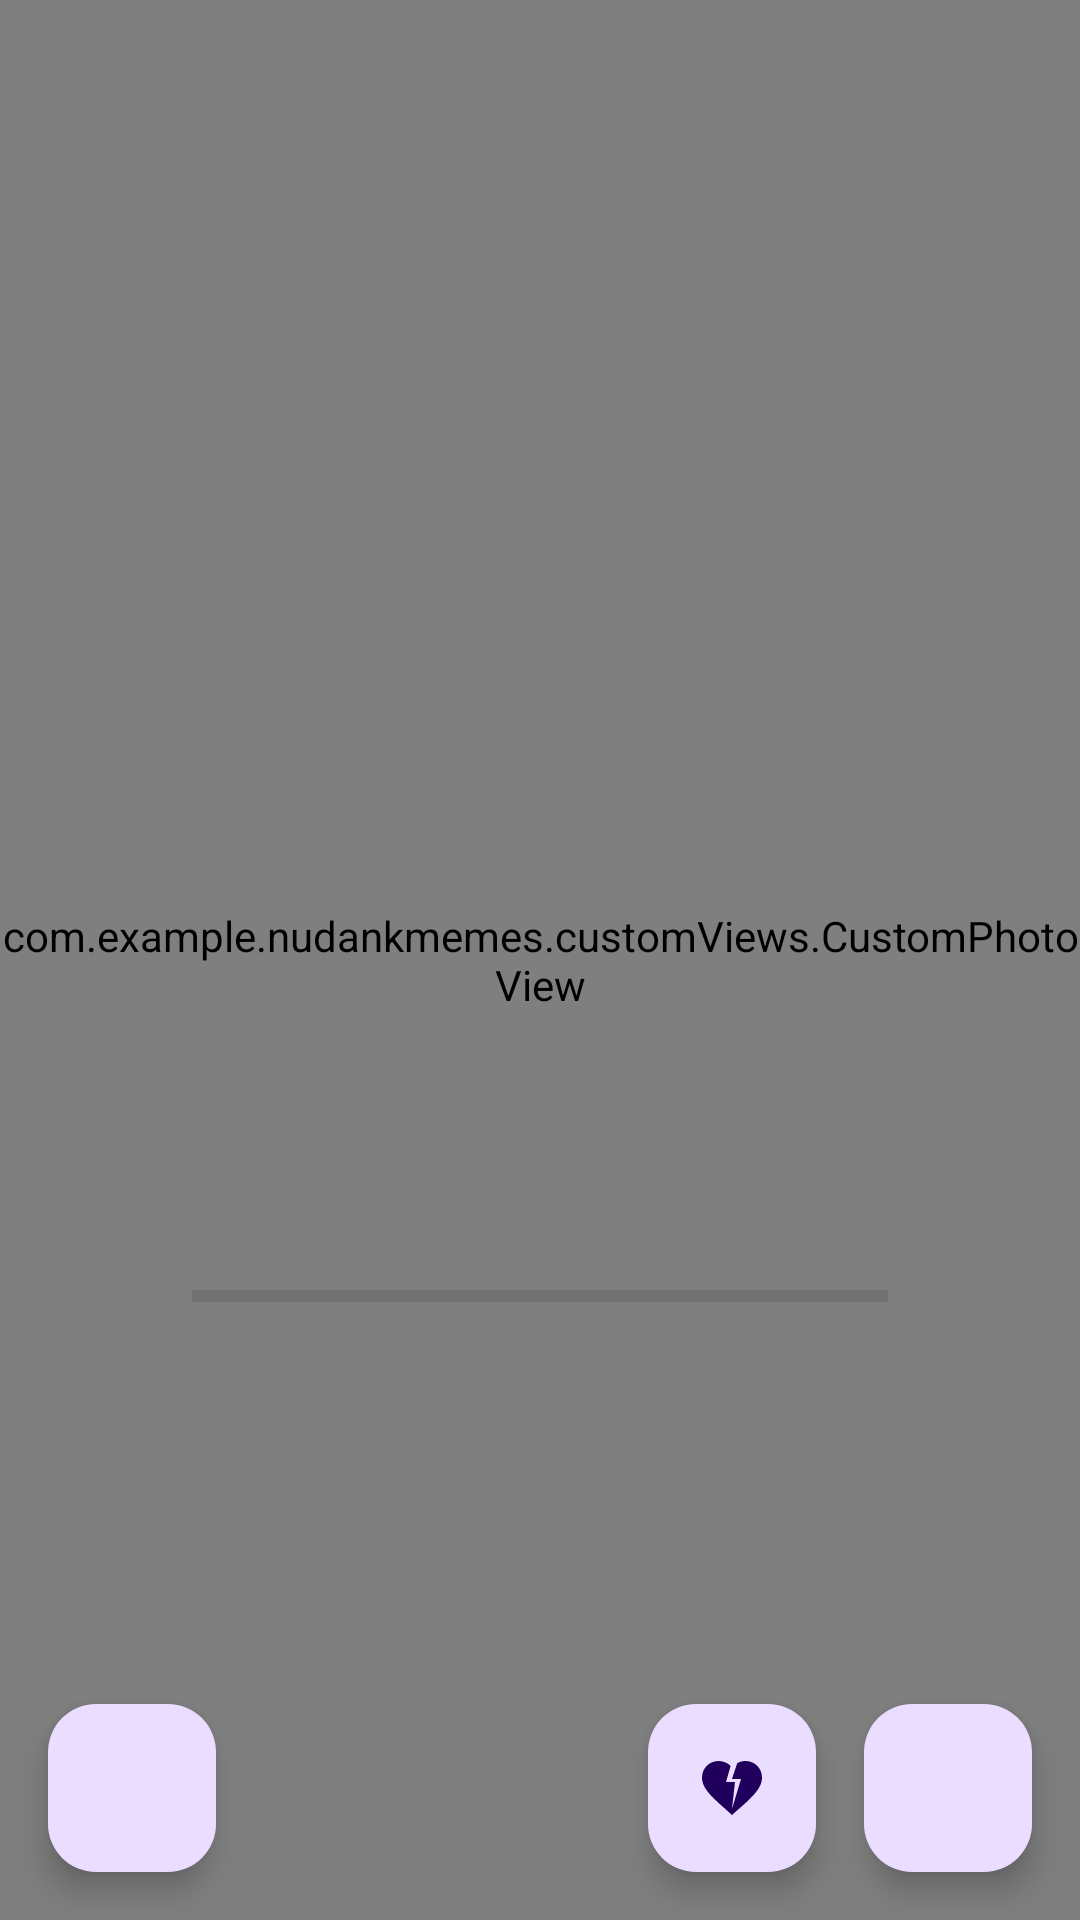

Where icons sit on this 1080×1920 app screen, as [x1=x1, y1=y1, x2=x2, y2=y2]:
unfavourite: [x1=648, y1=1704, x2=816, y2=1872]
